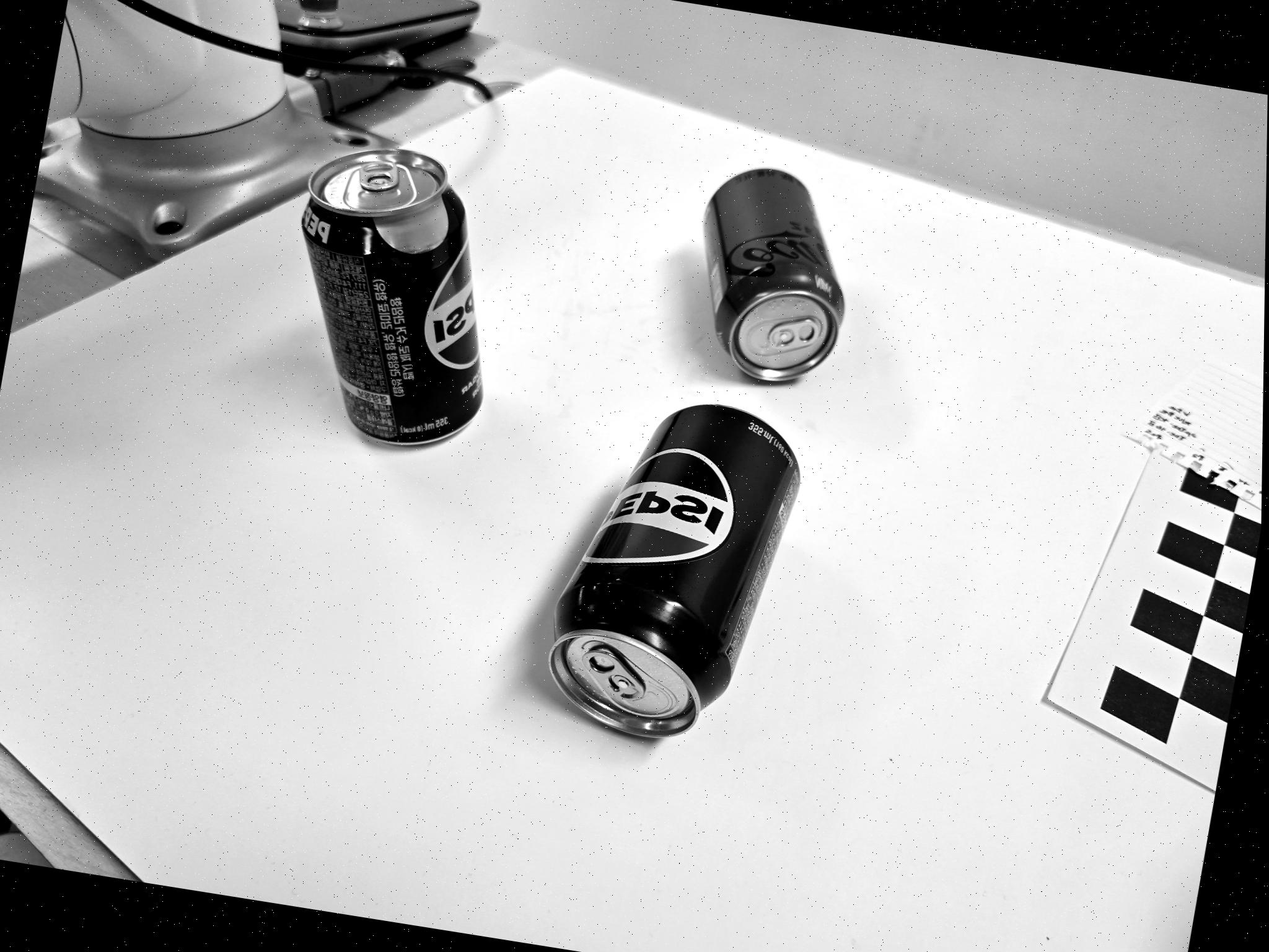can_coke_zero: (703, 168, 844, 380)
can_pepsi: (549, 404, 800, 736)
can_pepsi_zero: (302, 149, 482, 444)
